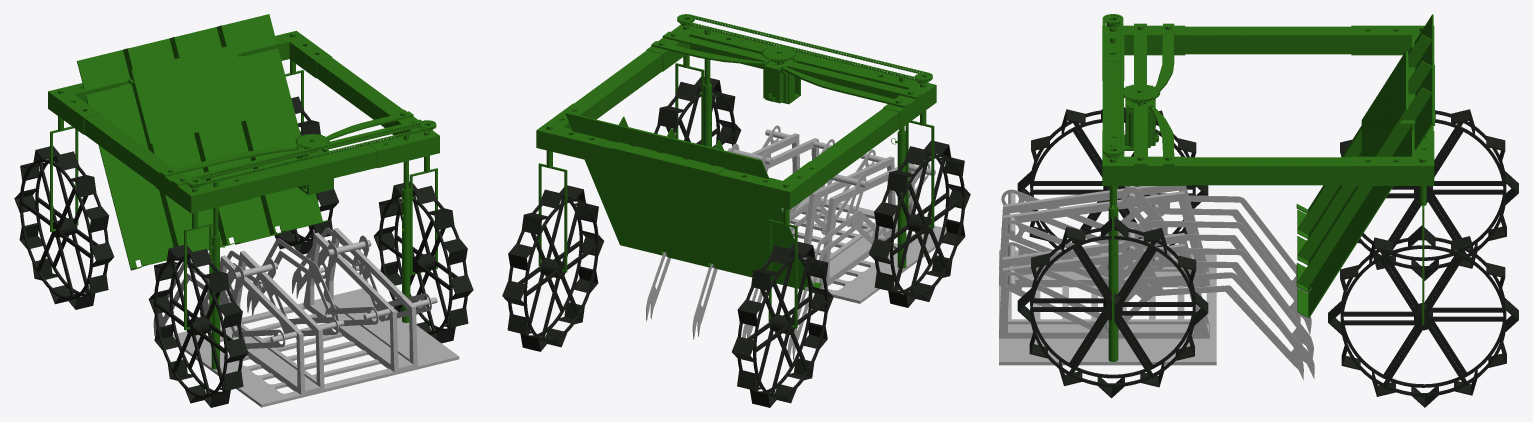
File: paddy-transplanter.glb
The picture shows the model from 3 angles, left to right: view 1: azimuth 30°, elevation 25°; view 2: azimuth 150°, elevation 25°; view 3: azimuth 270°, elevation 25°; orthographic projection. The views are drawn at different scales.
Visible parts, largest first — view 1: paddy transplanter; view 2: paddy transplanter; view 3: paddy transplanter.
Part boxes in pixels (box(x1,y1,x2,y2)): paddy transplanter: box(14, 14, 473, 407); paddy transplanter: box(502, 14, 970, 407); paddy transplanter: box(999, 14, 1518, 407).
Bounding box in the file's own units: 12.21 × 11.47 × 18.8.
1 material, 1 textured.
